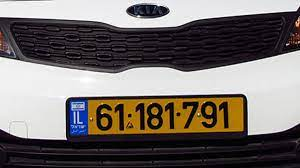licence: (66, 94, 247, 137)
